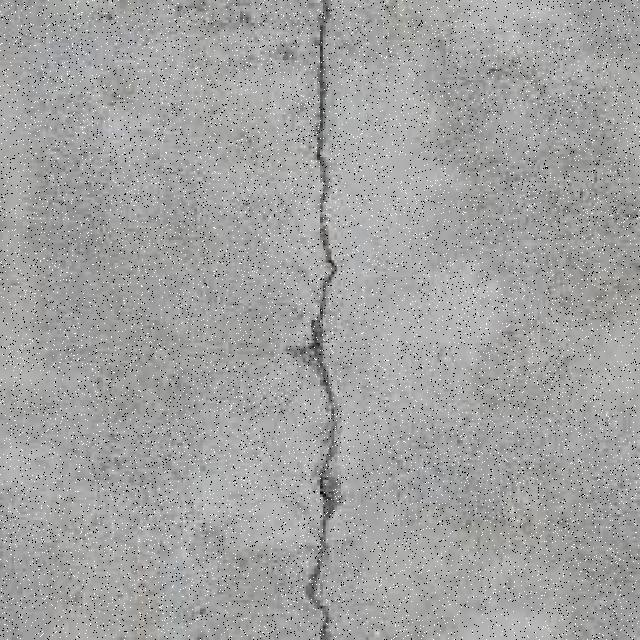severe crack: (292, 10, 340, 638), (310, 2, 330, 135), (320, 254, 336, 275)
